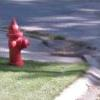Hydrant: (5, 8, 33, 80)
